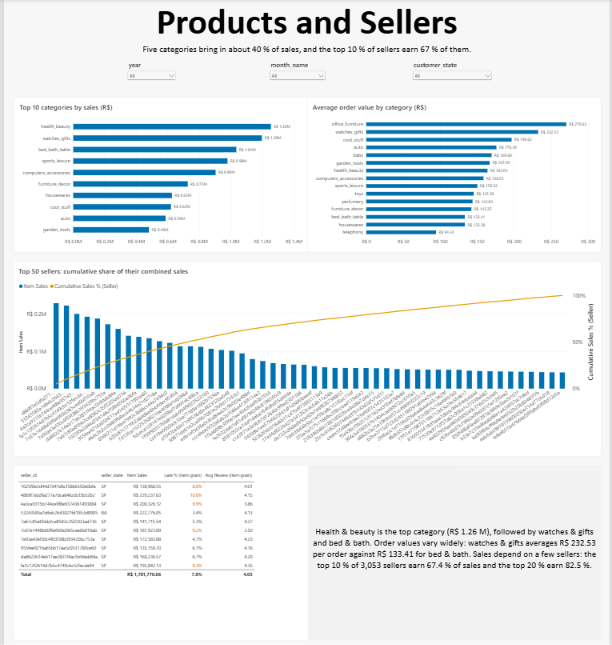

This screenshot's page, from the dashboard's own definition file:
{"tool":"powerbi","page":{"name":"3. Products and Sellers","canvas":[1800,1920],"ordinal":2},"visuals":[{"type":"textbox","box":[27.5,0,1745,180],"z":0},{"type":"slicer","fields":{"Values":["dim_date.year"]},"box":[362.5,180,152.5,75],"z":1000},{"type":"slicer","fields":{"Values":["dim_date.month_name"]},"box":[785,180,175,75],"z":2000},{"type":"slicer","fields":{"Values":["fact_orders.customer_state"]},"box":[1207.5,180,245,75],"z":3000},{"type":"clusteredBarChart","title":"Top 10 categories by sales (R$)","fields":{"Category":["dim_product.category_en"],"Y":["_Measures.Item Sales"]},"box":[30,290,873.3,460],"z":5000},{"type":"clusteredBarChart","title":"Average order value by category (R$)","fields":{"Category":["dim_product.category_en"],"Y":["_Measures.Avg Order Value in Selection (item grain)"]},"box":[900,290,873.3,460],"z":6000},{"type":"lineClusteredColumnComboChart","title":"Top 50 sellers: cumulative share of their combined sales","fields":{"Category":["dim_seller.seller_id"],"Y":["_Measures.Item Sales"],"Y2":["_Measures.Cumulative Sales % (Seller)"]},"box":[26.7,776.7,1746.7,580],"z":6001},{"type":"tableEx","fields":{"Values":["dim_seller.seller_id","dim_seller.seller_state","_Measures.Item Sales","_Measures.Late % (item grain)","_Measures.Avg Review (item grain)"]},"box":[26.7,1383.3,876.7,520],"z":6002},{"type":"textbox","box":[903.3,1383.3,870,520],"z":6004}]}

Visuals, with their boxes in screenshot pixels (x1, y1, x2, y2), scaled from the page's 1800x1920 canvas onto the 612x645 screenshot:
textbox: 9:0:603:60
slicer - dim_date.year: 123:60:175:86
slicer - dim_date.month_name: 267:60:326:86
slicer - fact_orders.customer_state: 411:60:494:86
"Top 10 categories by sales (R$)" clusteredBarChart: 10:97:307:252
"Average order value by category (R$)" clusteredBarChart: 306:97:603:252
"Top 50 sellers: cumulative share of their combined sales" lineClusteredColumnComboChart: 9:261:603:456
tableEx - dim_seller.seller_id x dim_seller.seller_state: 9:465:307:639
textbox: 307:465:603:639
